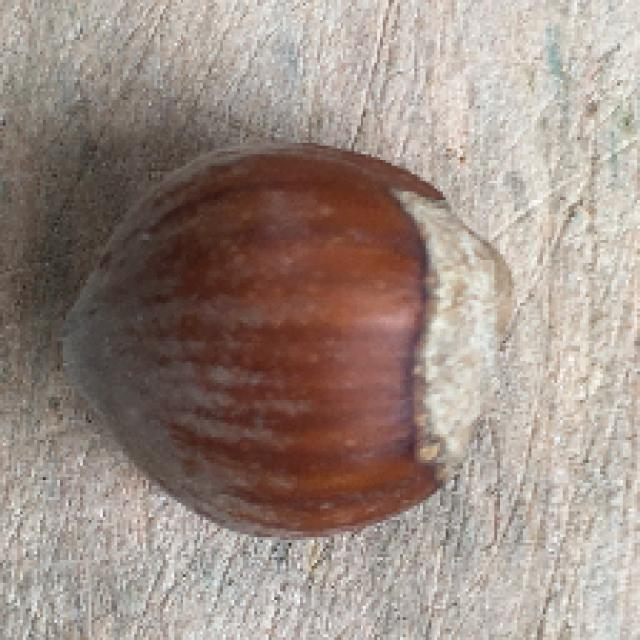qualityHazelnut: (54, 142, 518, 544)
